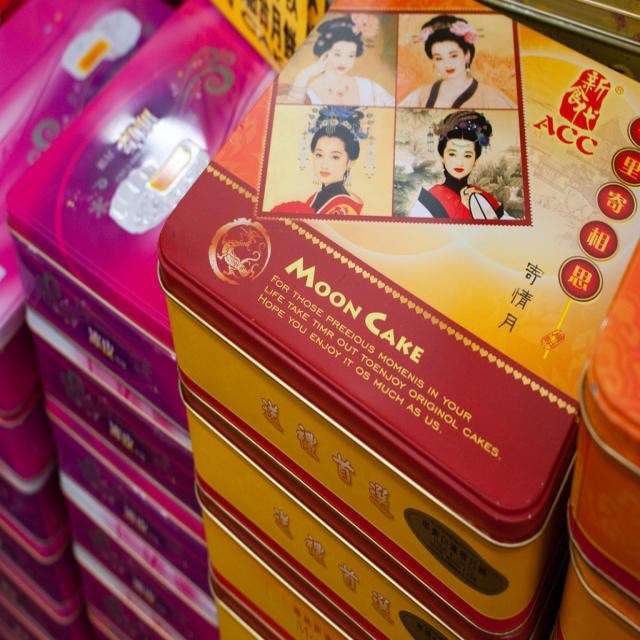Box: (156, 0, 639, 639), (2, 0, 275, 639), (0, 0, 175, 639), (564, 243, 639, 603), (554, 538, 640, 639)
